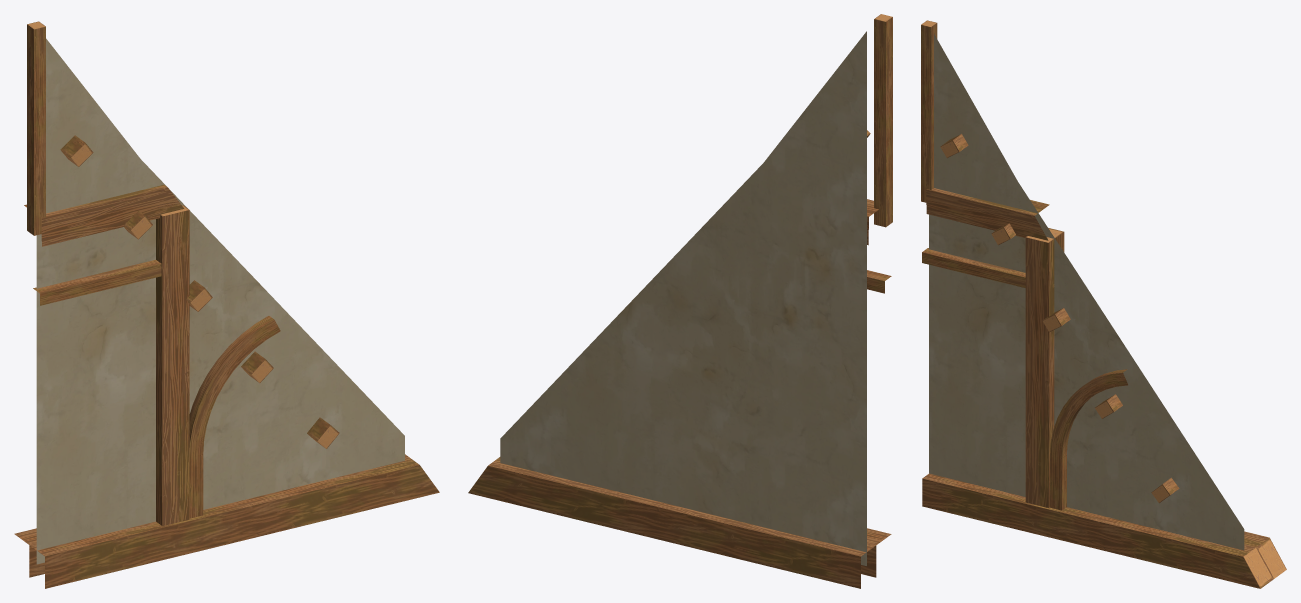
The model's file is roof-front-brick6-half-r.glb.
3 views of the same model, side by side, from view 1: azimuth 30°, elevation 25°; view 2: azimuth 150°, elevation 25°; view 3: azimuth 330°, elevation 25° (orthographic). The views are drawn at different scales.
Parts seen in each view (by area): view 1: Roof_Front_Brick6_Half_R; view 2: Roof_Front_Brick6_Half_R; view 3: Roof_Front_Brick6_Half_R.
Part boxes in pixels (left/top/right/bottom): Roof_Front_Brick6_Half_R: left=14, top=21, right=439, bottom=588; Roof_Front_Brick6_Half_R: left=468, top=14, right=892, bottom=588; Roof_Front_Brick6_Half_R: left=921, top=20, right=1286, bottom=588.
Bounding box in the file's own units: 3.4 × 4.52 × 0.4896.
Materials: 2 (2 with a texture image).
